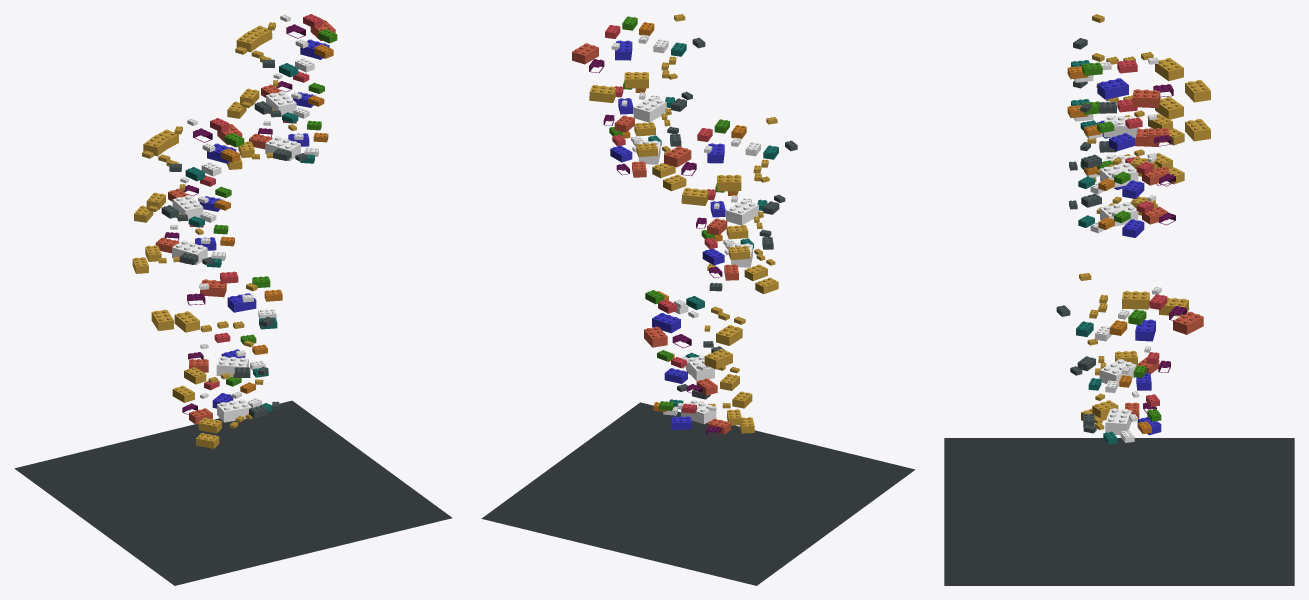
The picture shows the model from 3 angles, left to right: view 1: azimuth 30°, elevation 25°; view 2: azimuth 150°, elevation 25°; view 3: azimuth 270°, elevation 25°; orthographic projection. The views are drawn at different scales.
Visible parts, largest first — view 1: Plane.002, LegoBrick; view 2: Plane.002, LegoBrick.147, LegoBrick.092; view 3: Plane.002, LegoBrick, LegoBrick.037, LegoBrick.162, LegoBrick.053, LegoBrick.163, LegoBrick.054, LegoBrick.073, LegoBrick.128, LegoBrick.164, LegoBrick.099, LegoBrick.154 (+2 smaller).
Part boxes in pixels (x1=…): Plane.002: x1=14, y1=400, x2=452, y2=585; LegoBrick: x1=217, y1=399, x2=251, y2=422; Plane.002: x1=481, y1=402, x2=915, y2=585; LegoBrick.147: x1=633, y1=97, x2=666, y2=122; LegoBrick.092: x1=726, y1=200, x2=758, y2=225; Plane.002: x1=944, y1=438, x2=1294, y2=585; LegoBrick: x1=1105, y1=408, x2=1131, y2=435; LegoBrick.037: x1=1099, y1=359, x2=1136, y2=386; LegoBrick.162: x1=1097, y1=78, x2=1128, y2=99; LegoBrick.053: x1=1173, y1=311, x2=1203, y2=334; LegoBrick.163: x1=1132, y1=89, x2=1160, y2=107; LegoBrick.054: x1=1122, y1=291, x2=1149, y2=309; LegoBrick.073: x1=1100, y1=201, x2=1138, y2=227; LegoBrick.128: x1=1100, y1=163, x2=1138, y2=188; LegoBrick.164: x1=1155, y1=58, x2=1183, y2=81; LegoBrick.099: x1=1185, y1=119, x2=1210, y2=141; LegoBrick.154: x1=1185, y1=80, x2=1210, y2=102.
Bounding box in the file's own units: 48.24 × 77.76 × 48.24.
